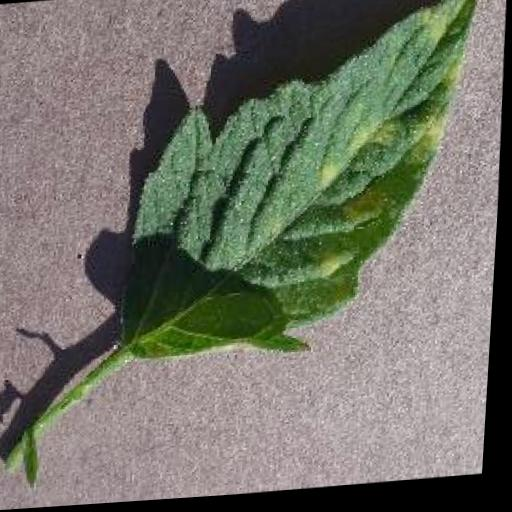Leaf Mold: (113, 0, 494, 372)
